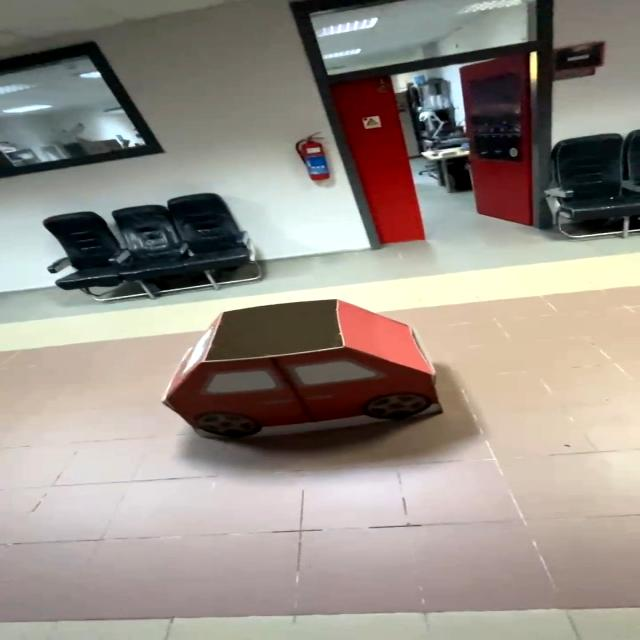red_car: (119, 294, 498, 475)
